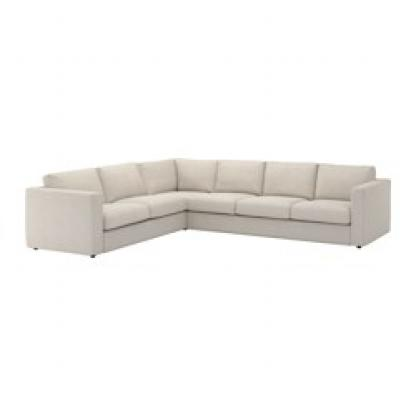Sofa: (19, 112, 394, 286)
